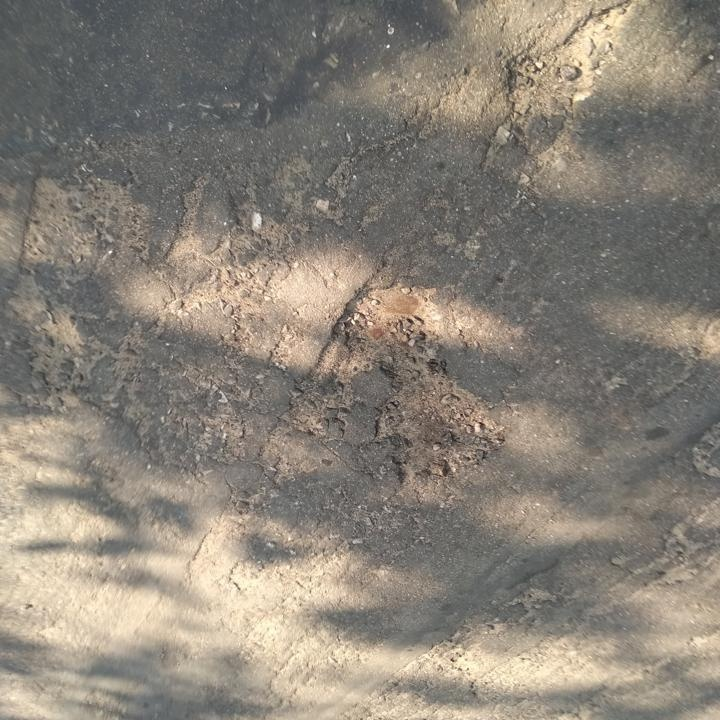pothole: (497, 4, 647, 118), (368, 380, 511, 486), (334, 281, 451, 376)
